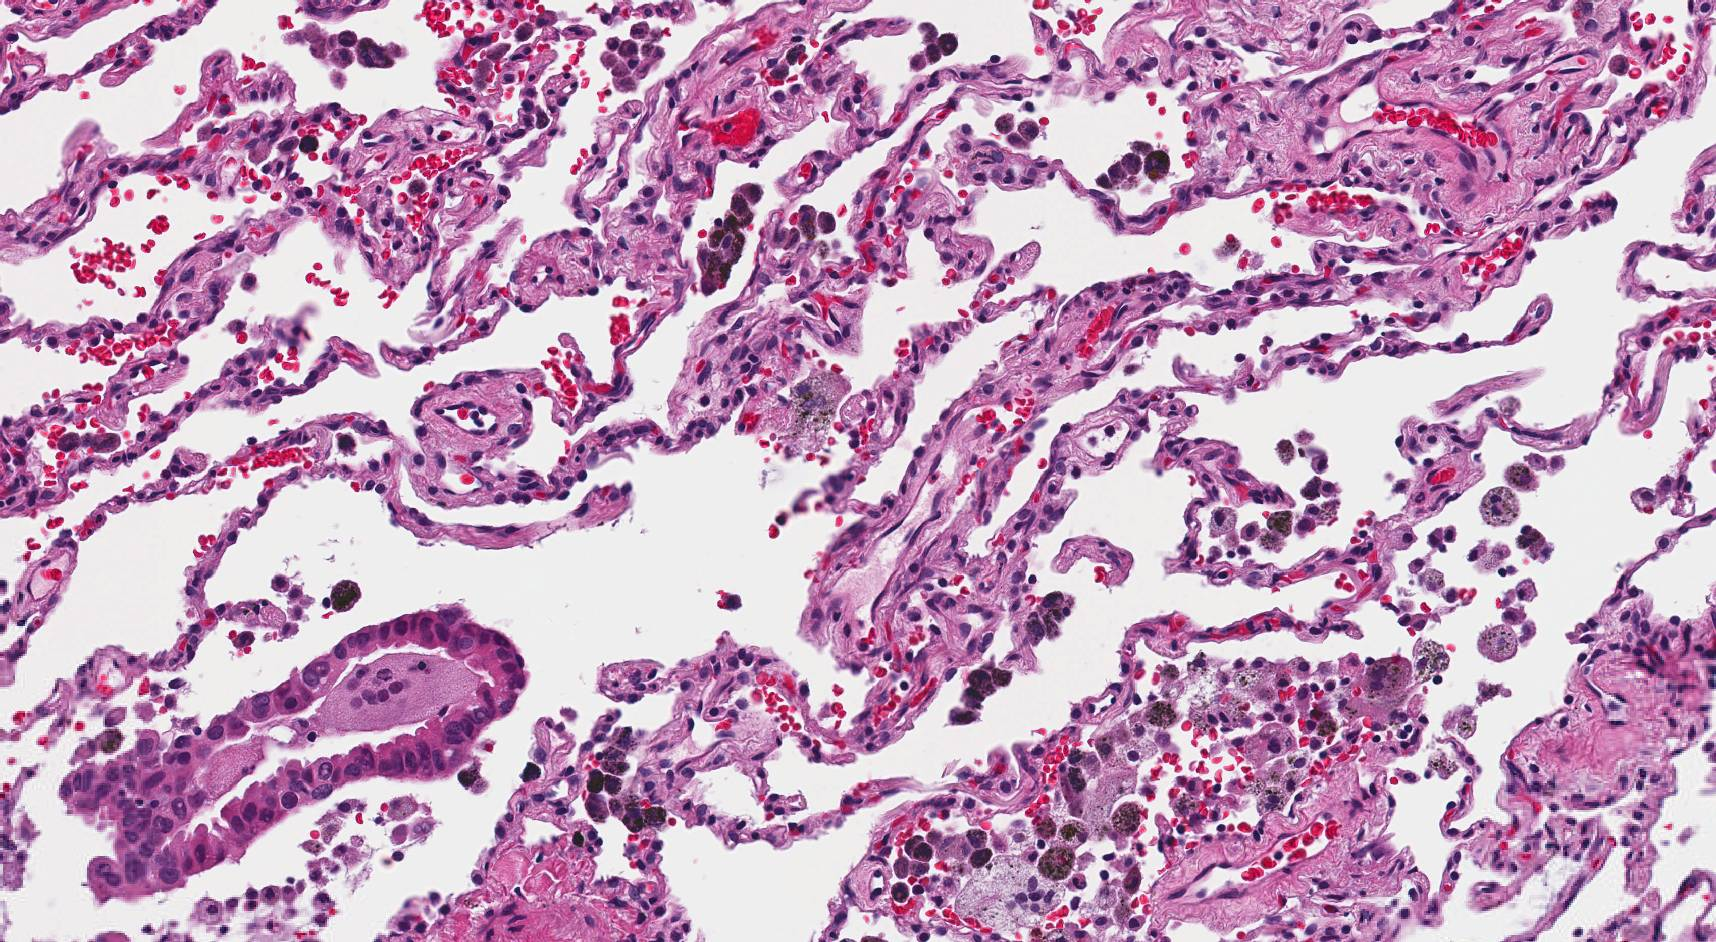stas: (57, 603, 527, 903)
